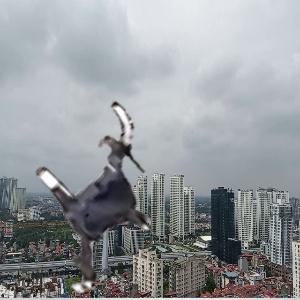drone: (6, 107, 195, 296)
